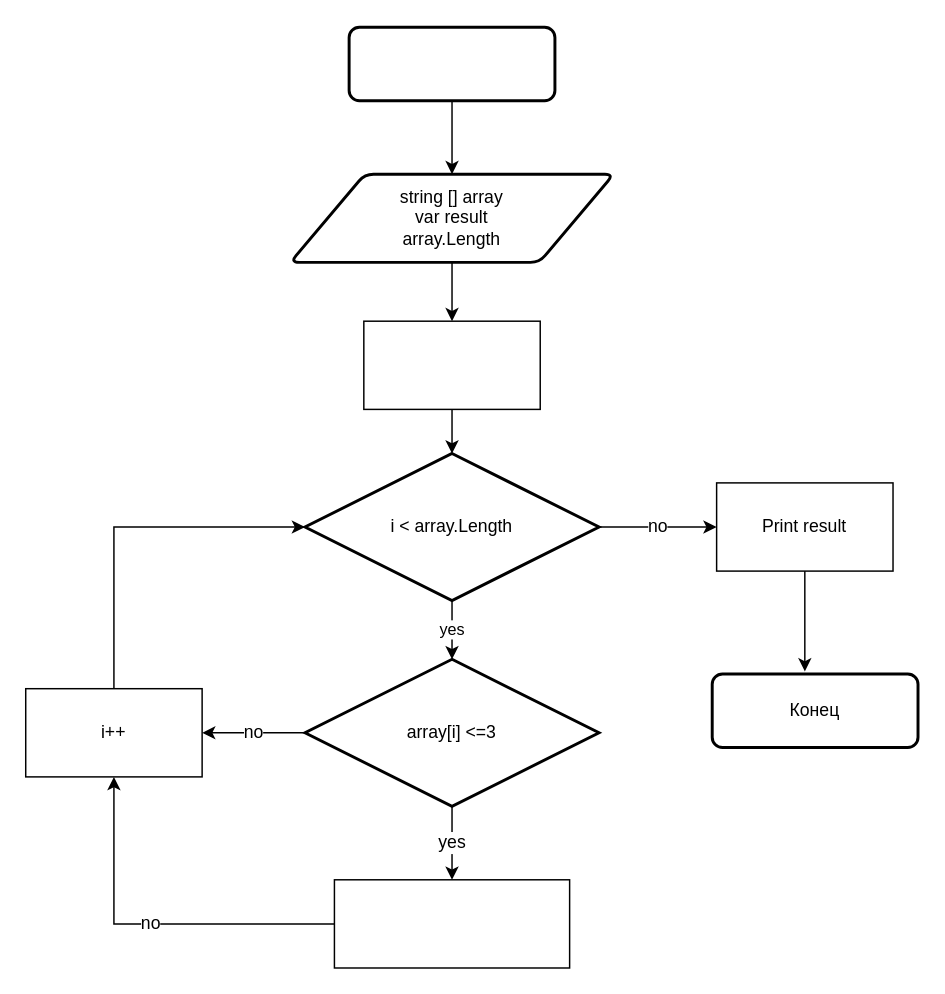
This 945x994 diagram has some shape labels left out. The shapes that lost their labels are listed below. From the top down, each one's centre as x and y in pixels, then its label:
[451,63]: Начало
[451,364]: int count = 0 int i = 0
[451,923]: reasult[i] = array[i]
